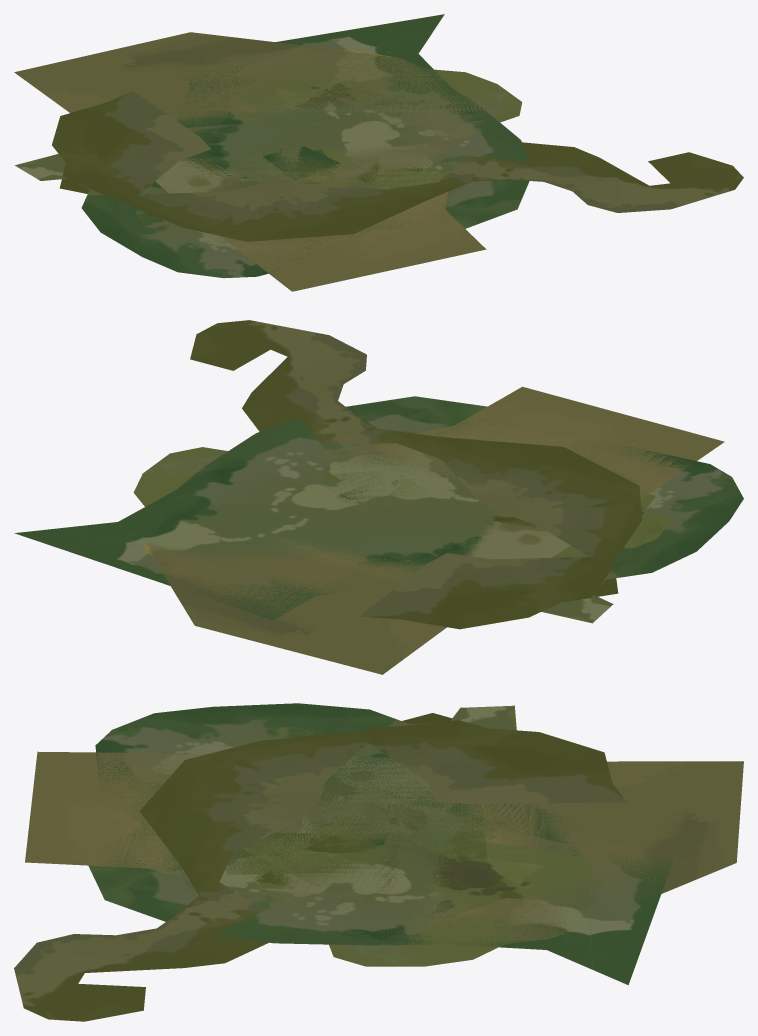
File: lvl2-islands.gltf
The picture shows the model from 3 angles, top to bottom: view 1: azimuth 30°, elevation 25°; view 2: azimuth 150°, elevation 25°; view 3: azimuth 270°, elevation 25°; orthographic projection. The views are drawn at different scales.
Parts seen in each view (by area): view 1: EN_LVL2-Island01-Farmlands, EN_LVL2-Island05-Forest, EN_LVL2-Island03-Planes, EN_LVL2-Island06-Waterfall, EN_LVL2-Island02-Between-Farm-Planes, EN_LVL2-Bckground_waterfall-entrance, EN_LVL2-Island-Background-Forest01, EN_LVL2-Island04-Between-Planes-Forest; view 2: EN_LVL2-Island05-Forest, EN_LVL2-Island01-Farmlands, EN_LVL2-Island03-Planes, EN_LVL2-Island06-Waterfall, EN_LVL2-Island03-Planes-Top1; view 3: EN_LVL2-Island05-Forest, EN_LVL2-Island01-Farmlands, EN_LVL2-Island03-Planes, EN_LVL2-Island06-Waterfall, EN_LVL2-Island05-Forest-top, EN_LVL2-Island03-Planes-Top1, EN_LVL2-Island02-Between-Farm-Planes, EN_LVL2-Island08-Entrance, EN_LVL2-Island-background-watefrall-Bottom.
Part boxes in pixels (x1,y1,x2,y2): EN_LVL2-Island01-Farmlands: (14, 32, 522, 291); EN_LVL2-Island05-Forest: (15, 14, 529, 278); EN_LVL2-Island03-Planes: (52, 91, 743, 241); EN_LVL2-Island06-Waterfall: (136, 67, 446, 243); EN_LVL2-Island02-Between-Farm-Planes: (192, 156, 379, 187); EN_LVL2-Bckground_waterfall-entrance: (259, 147, 366, 172); EN_LVL2-Island-Background-Forest01: (296, 146, 340, 175); EN_LVL2-Island04-Between-Planes-Forest: (263, 152, 306, 180); EN_LVL2-Island05-Forest: (14, 396, 743, 623); EN_LVL2-Island01-Farmlands: (133, 386, 724, 674); EN_LVL2-Island03-Planes: (190, 320, 641, 629); EN_LVL2-Island06-Waterfall: (211, 453, 672, 574); EN_LVL2-Island03-Planes-Top1: (313, 470, 400, 556); EN_LVL2-Island05-Forest: (88, 703, 673, 985); EN_LVL2-Island01-Farmlands: (25, 751, 743, 966); EN_LVL2-Island03-Planes: (14, 713, 626, 1021); EN_LVL2-Island06-Waterfall: (197, 726, 593, 925); EN_LVL2-Island05-Forest-top: (225, 797, 487, 874); EN_LVL2-Island03-Planes-Top1: (243, 779, 497, 891); EN_LVL2-Island02-Between-Farm-Planes: (243, 790, 447, 878); EN_LVL2-Island08-Entrance: (287, 815, 423, 854); EN_LVL2-Island-background-watefrall-Bottom: (279, 797, 427, 832).
Bounding box in the file's own units: 73.33 × 0.3123 × 71.16.
Materials: 1 (1 with a texture image).
